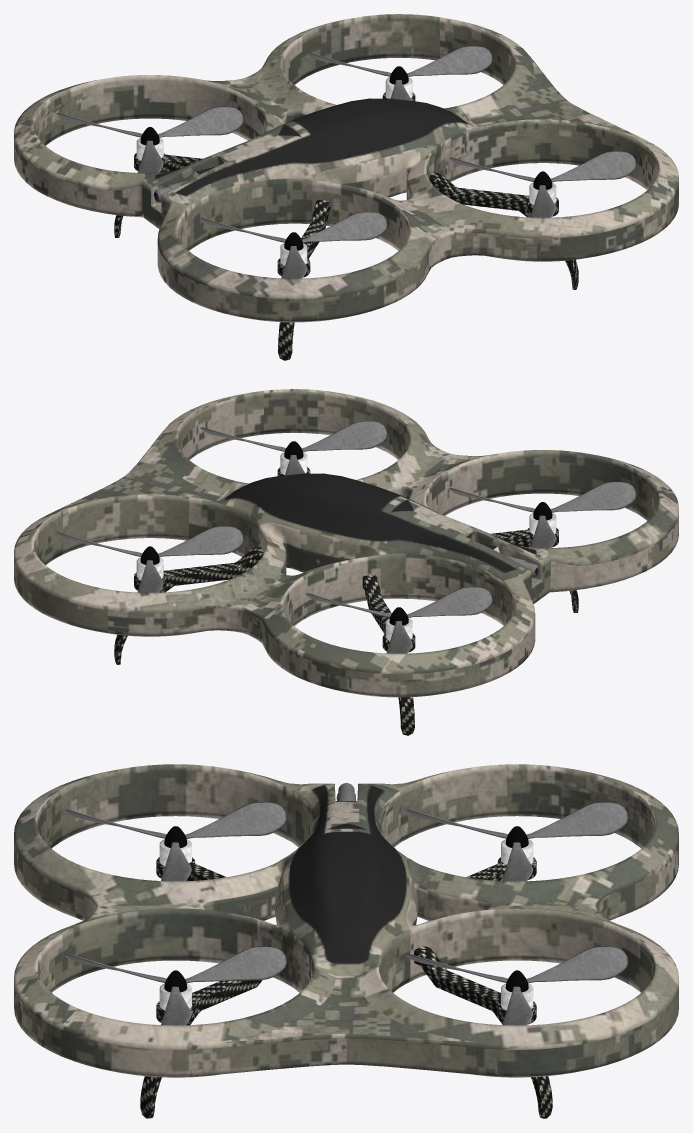
File: QuadCopter.fbx
3 views of the same model, one above another, from view 1: azimuth 30°, elevation 25°; view 2: azimuth 150°, elevation 25°; view 3: azimuth 270°, elevation 25° (orthographic). The views are drawn at different scales.
Parts seen in each view (by area): view 1: Body, PropFL, PropFR, PropRL, PropRR; view 2: Body, PropRR, PropFR, PropFL, PropRL; view 3: Body, PropRL, PropRR, PropFL, PropFR.
Boxes of the visible parts, box(x1,y1,x2,y2) form: Body: box(14, 14, 678, 360); PropFL: box(200, 212, 387, 278); PropFR: box(56, 106, 243, 173); PropRL: box(449, 151, 636, 217); PropRR: box(306, 46, 492, 100); Body: box(14, 389, 678, 735); PropRR: box(56, 526, 243, 592); PropFR: box(306, 587, 492, 653); PropFL: box(449, 481, 636, 548); PropRL: box(200, 421, 387, 475); Body: box(14, 764, 678, 1118); PropRL: box(64, 946, 287, 1025); PropRR: box(406, 946, 628, 1025); PropFL: box(64, 802, 287, 881); PropFR: box(406, 802, 628, 881).
Size of the model in its own units: 409 by 122 by 409.
